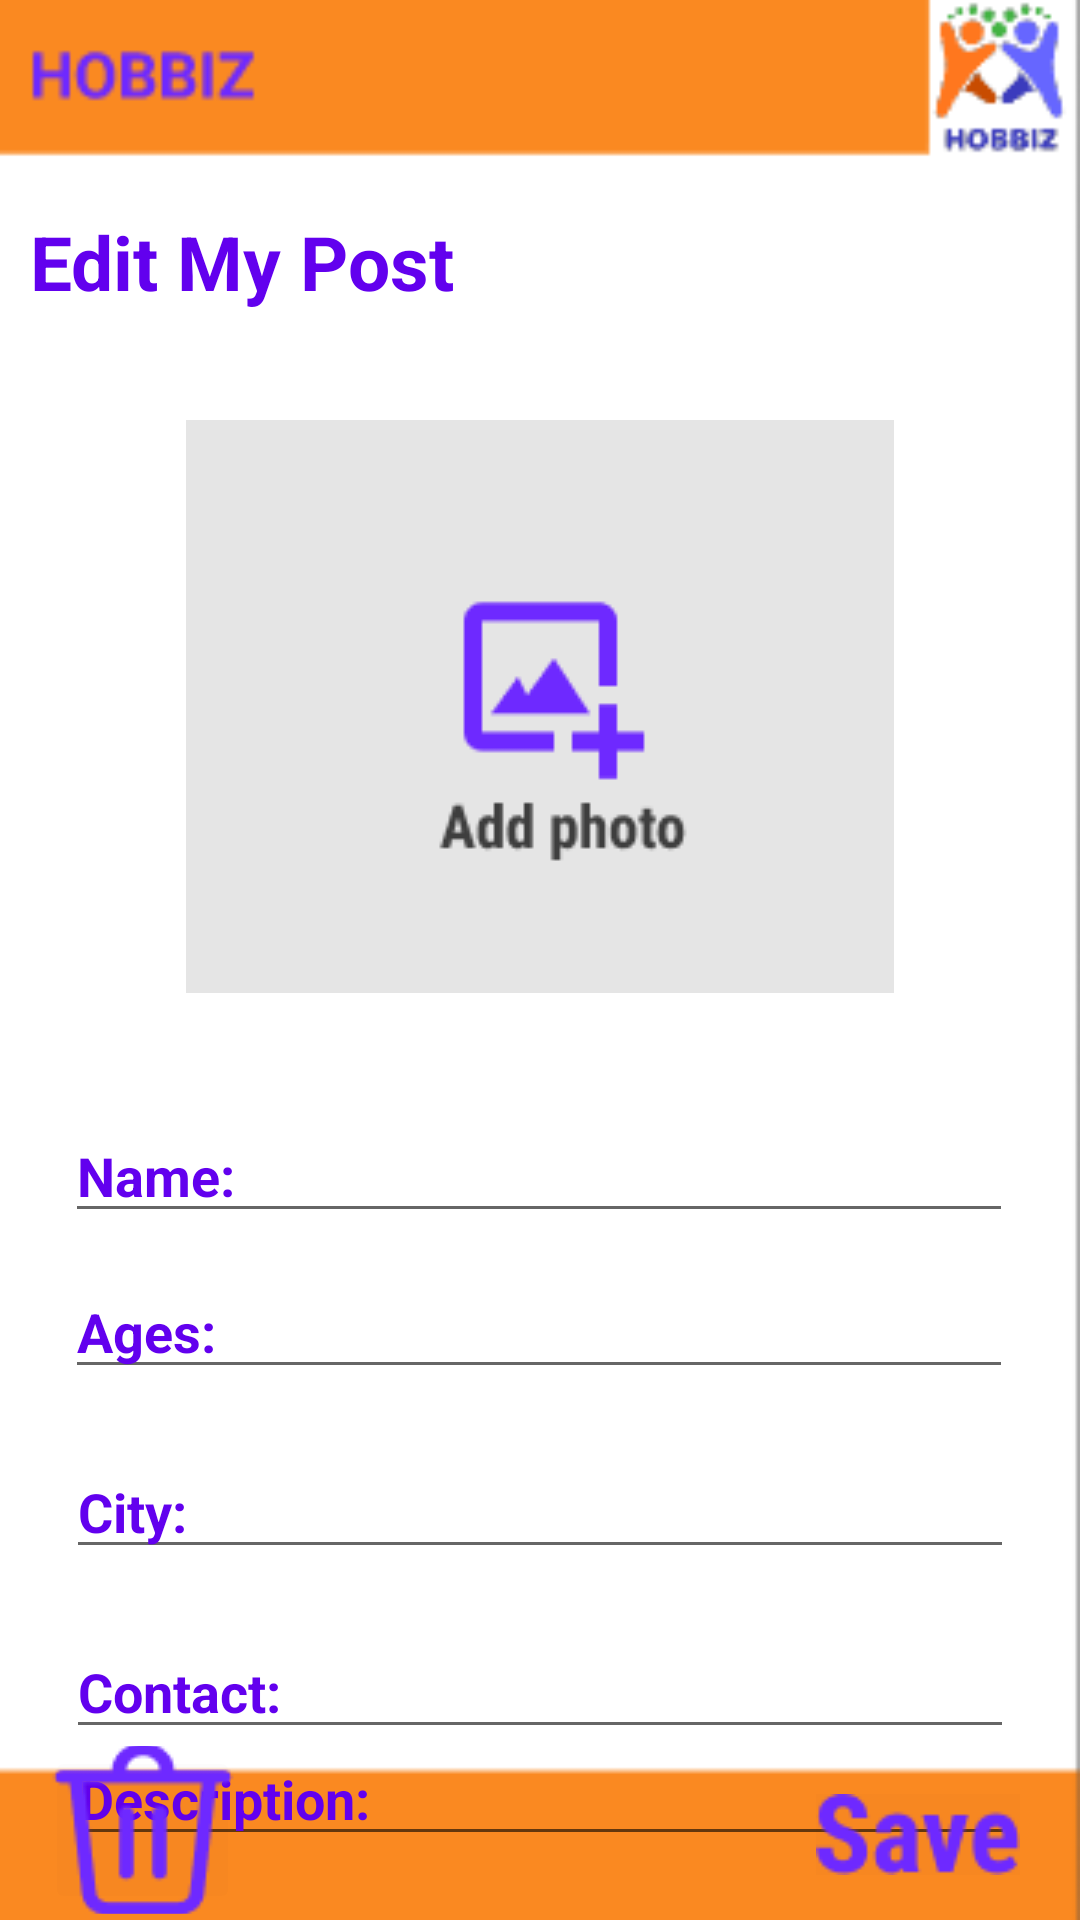

Icon bounding boxes for this 1080w x 1920h phone screenshot, format (x1, y1, x2, y2):
delete: (45, 1746, 240, 1914)
